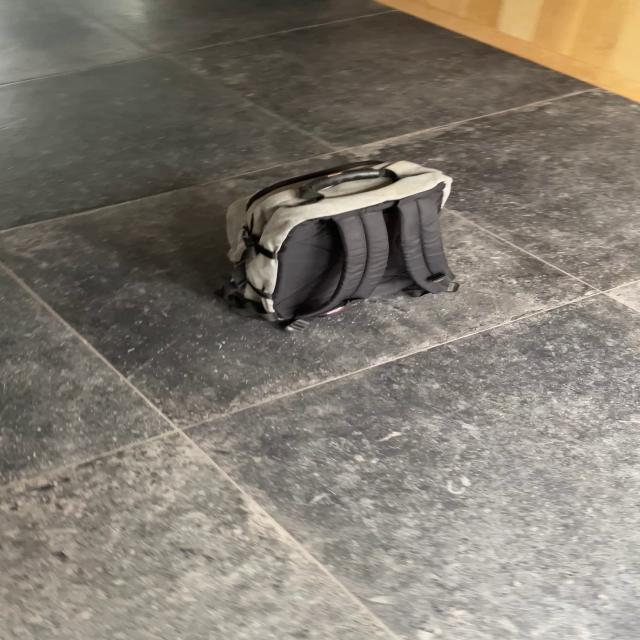backpack: (207, 153, 463, 323)
